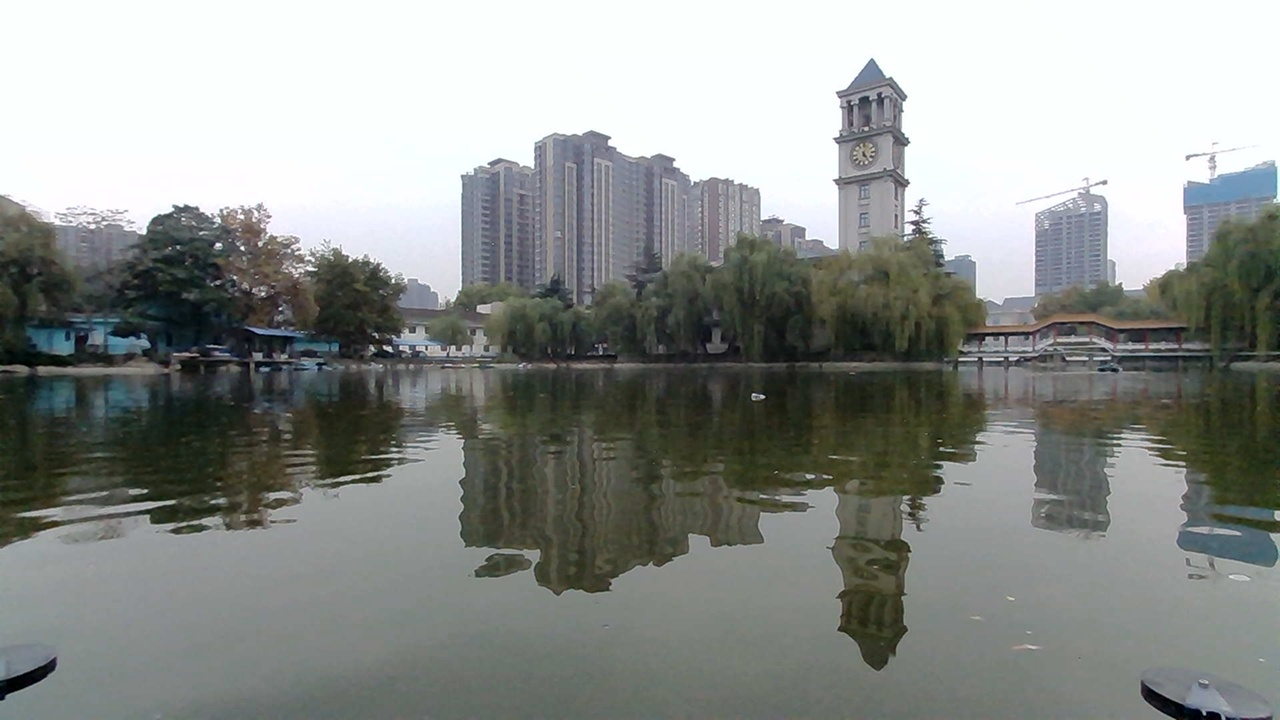bottle: (733, 379, 772, 409)
